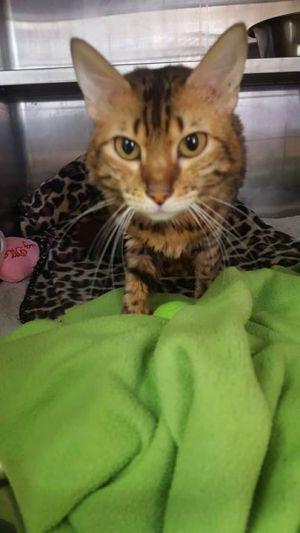bengal: (61, 13, 256, 228)
